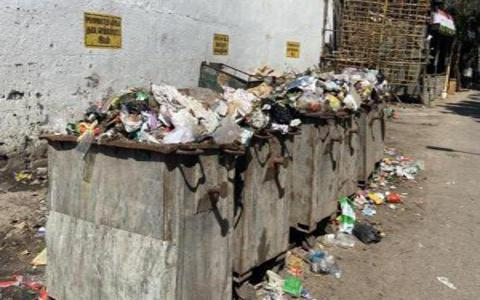overflowing garbage: (25, 82, 237, 297), (253, 63, 378, 246)
